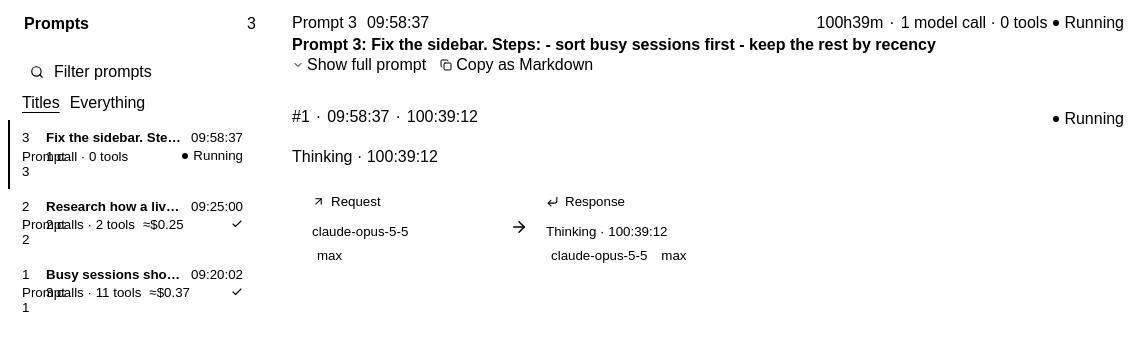
FlowView › lets a prompt longer than the heading be read in full, line breaks kept
Click the button "Show full prompt": (359, 65) left=292, top=56, right=426, bottom=74
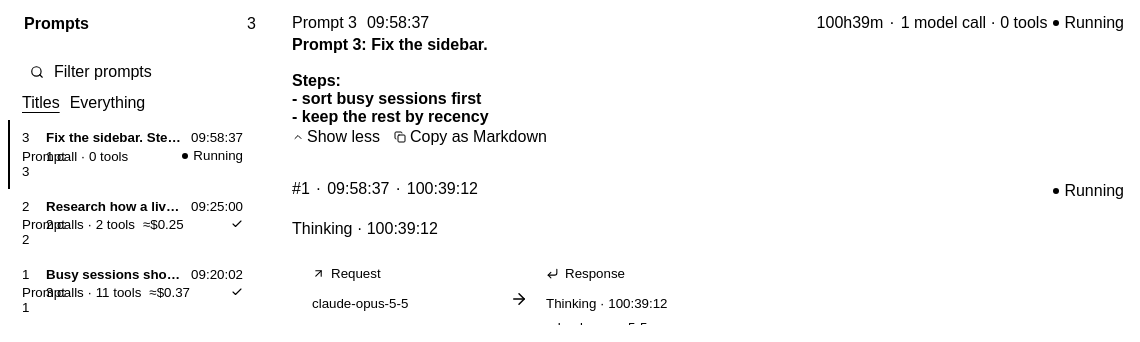
Result: the button "Show less" is expanded at left=292, top=128, right=380, bottom=146
